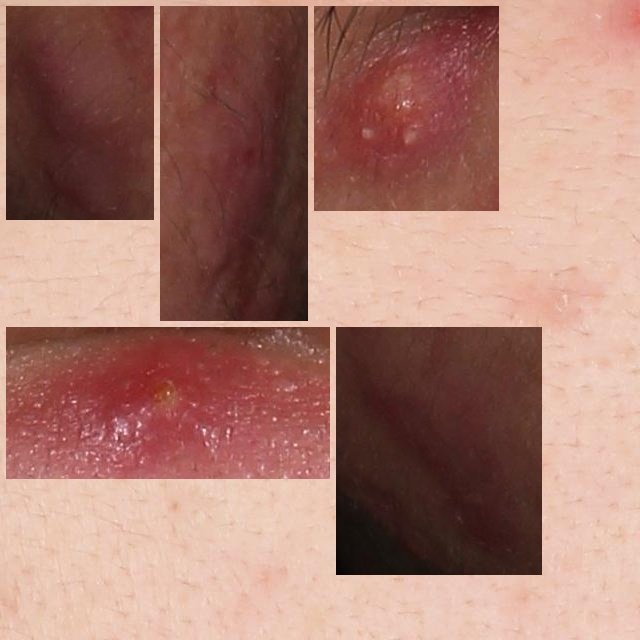nodule: (344, 335, 534, 567), (14, 335, 322, 471), (168, 14, 300, 313), (322, 14, 491, 203), (14, 14, 146, 212)
